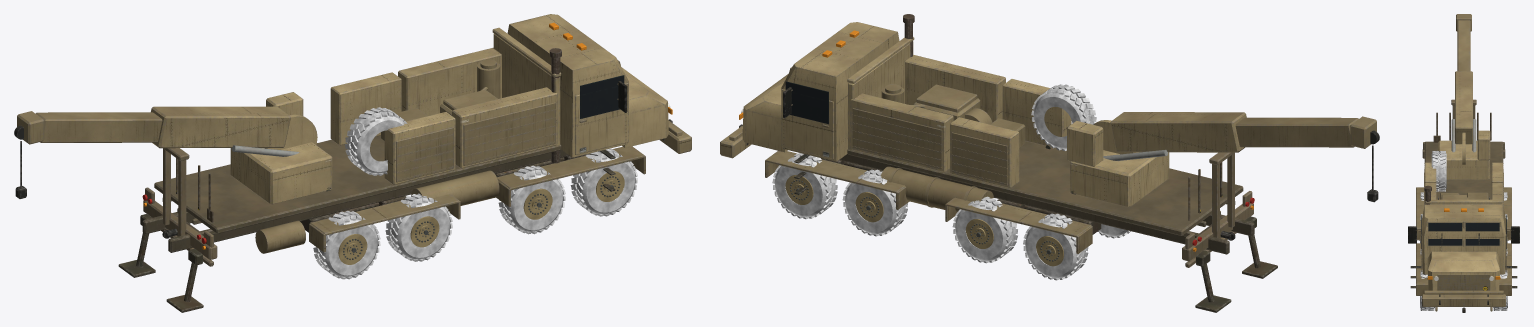
3 renders of one model, left to right at view 1: azimuth 30°, elevation 25°; view 2: azimuth 150°, elevation 25°; view 3: azimuth 270°, elevation 25°, orthographic. The views are drawn at different scales.
Visible parts, largest first — view 1: body, chassis, cab, tyres, rims, wheel_bolts; view 2: body, chassis, cab, tyres, rims, wheel_bolts; view 3: cab, body, chassis, tyres.
Boxes of the visible parts, box(x1,y1,x2,y2) form: body: box(14, 27, 561, 235); chassis: box(118, 48, 672, 312); cab: box(507, 14, 691, 157); tyres: box(313, 107, 637, 279); rims: box(338, 171, 624, 264); wheel_bolts: box(343, 176, 620, 259); body: box(847, 37, 1379, 237); chassis: box(739, 14, 1277, 312); cab: box(720, 22, 899, 161); tyres: box(772, 84, 1130, 280); rims: box(785, 175, 1063, 266); wheel_bolts: box(790, 179, 1059, 261); cab: box(1408, 204, 1519, 311); body: box(1424, 14, 1503, 206); chassis: box(1410, 142, 1517, 312); tyres: box(1420, 151, 1507, 310).
Size of the model in its own units: 13.64 by 4.11 by 3.24.
6 materials, 6 textured.
